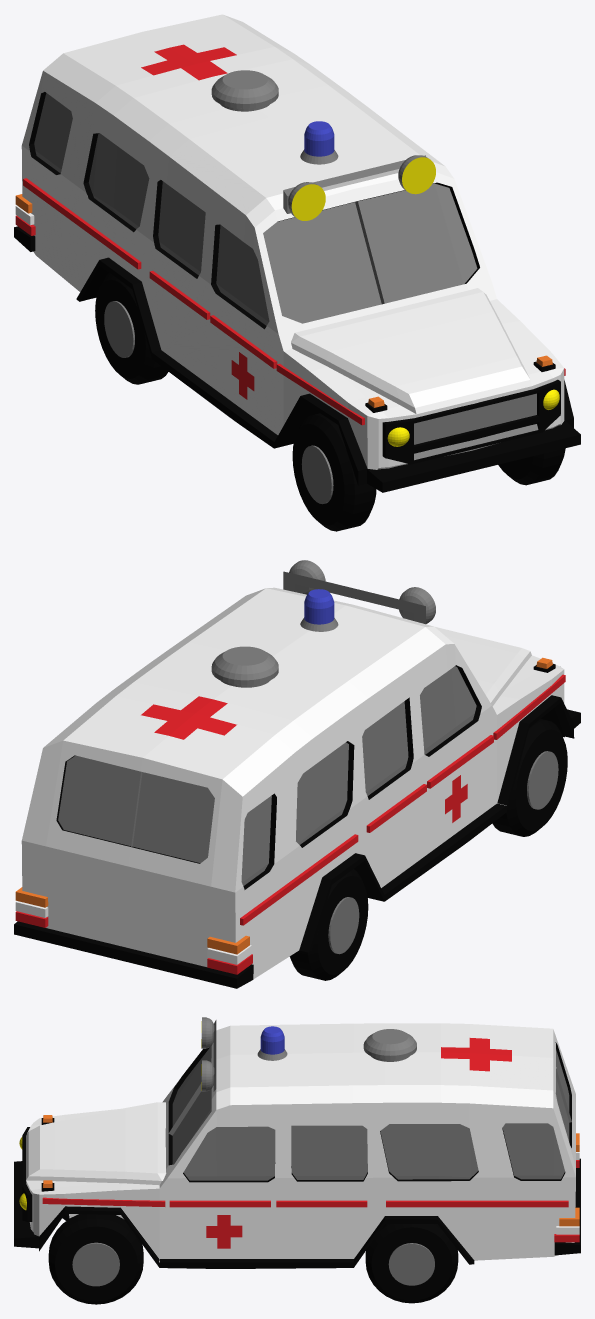
The model's file is Авто №3.fbx.
3 renders of one model, top to bottom at view 1: azimuth 30°, elevation 25°; view 2: azimuth 150°, elevation 25°; view 3: azimuth 270°, elevation 25°, orthographic. The views are drawn at different scales.
Parts seen in each view (by area): view 1: Cube, Cylinder.002, Cylinder.003, Cylinder; view 2: Cube, Cylinder.002, Cylinder.003; view 3: Cube, Cylinder, Cylinder.001.
Boxes of the visible parts, x1,y1,x2,y2 form: Cube: (14,14,580,492); Cylinder.002: (292,413,376,531); Cylinder.003: (95,273,168,384); Cylinder: (498,448,565,485); Cube: (14,560,580,988); Cylinder.002: (492,719,567,836); Cylinder.003: (289,869,368,980); Cube: (14,1017,580,1268); Cylinder: (48,1214,143,1304); Cylinder.001: (365,1224,458,1303).
Size of the model in its own units: 50.34 by 60.97 by 134.
